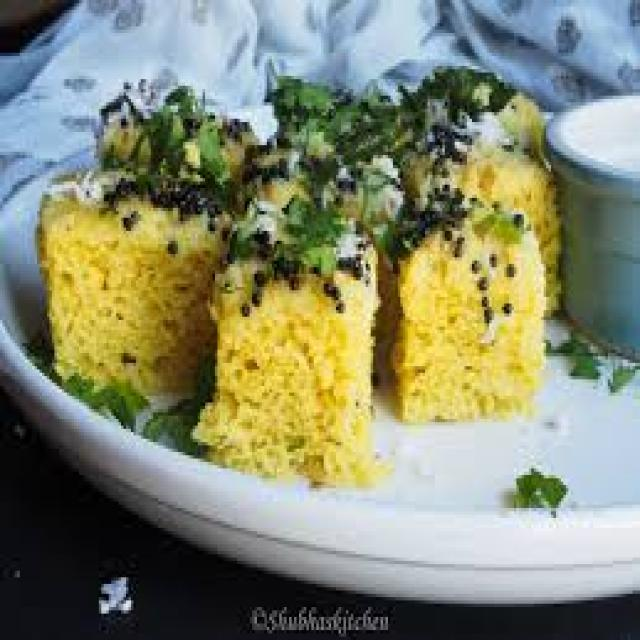DHOKLA: (37, 168, 217, 409), (393, 211, 544, 419), (230, 139, 361, 284)
